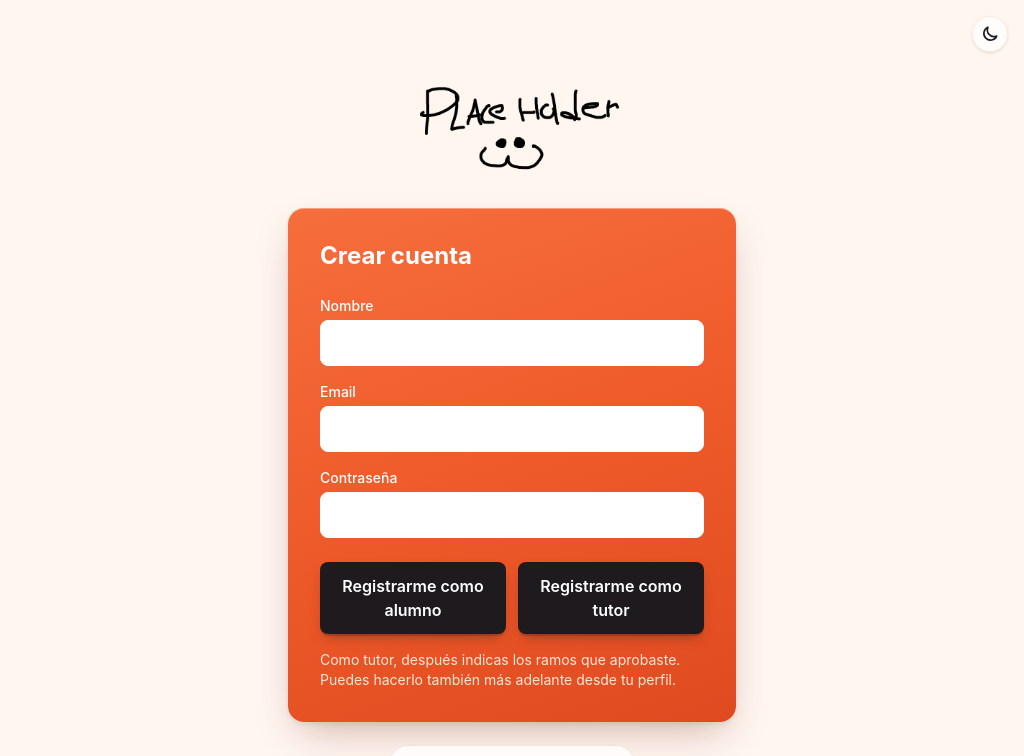
it: Registro › email repetido (CONFLICT)
Step 1. Type "Benja" into the field labelled "Nombre" → (512, 343), box [320,320,704,366]
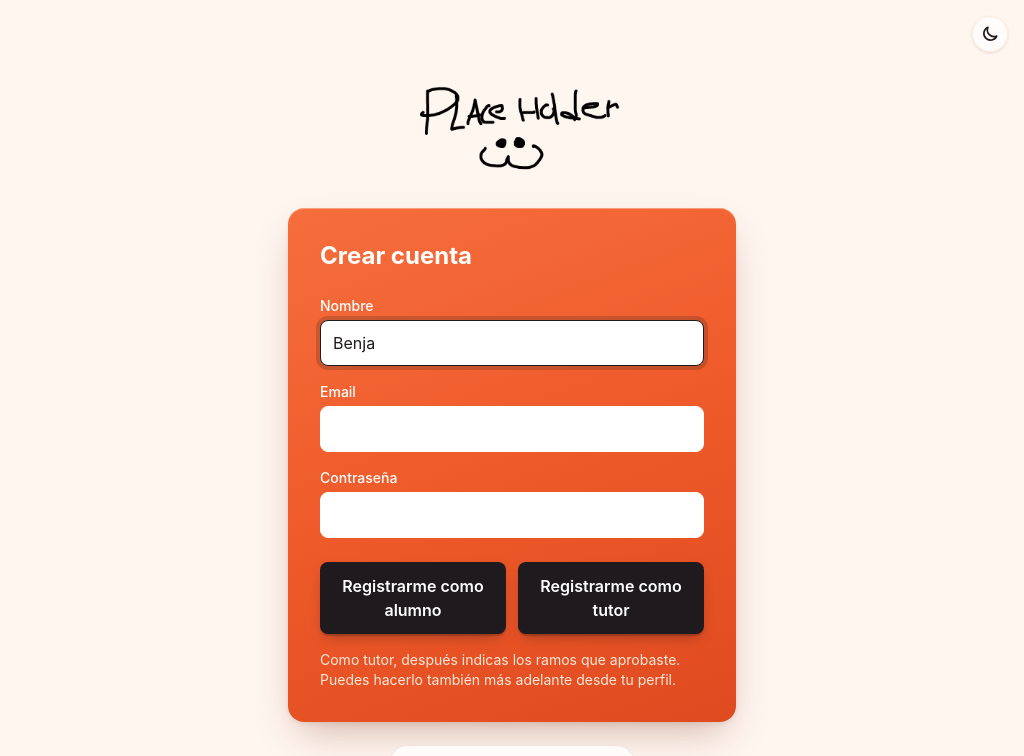
Step 2. Type "benja@test.local" into the field labelled "Email" → (512, 429), box [320,406,704,452]
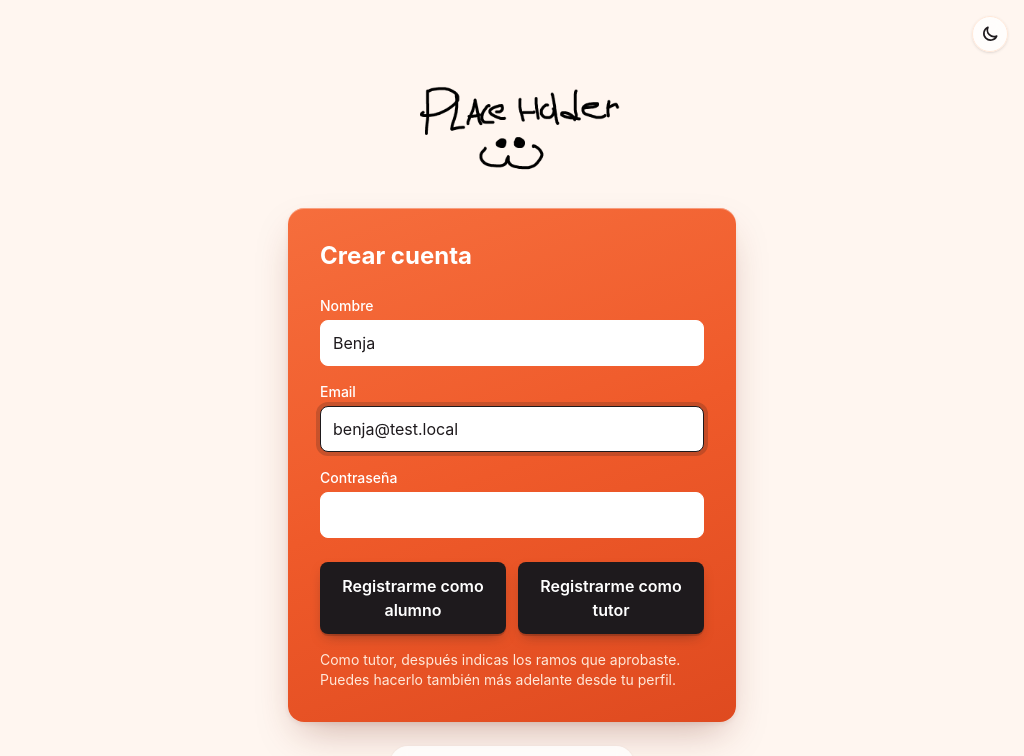
Step 3. Type "clave" into the password field labelled "Contraseña" → (512, 515), box [320,492,704,538]
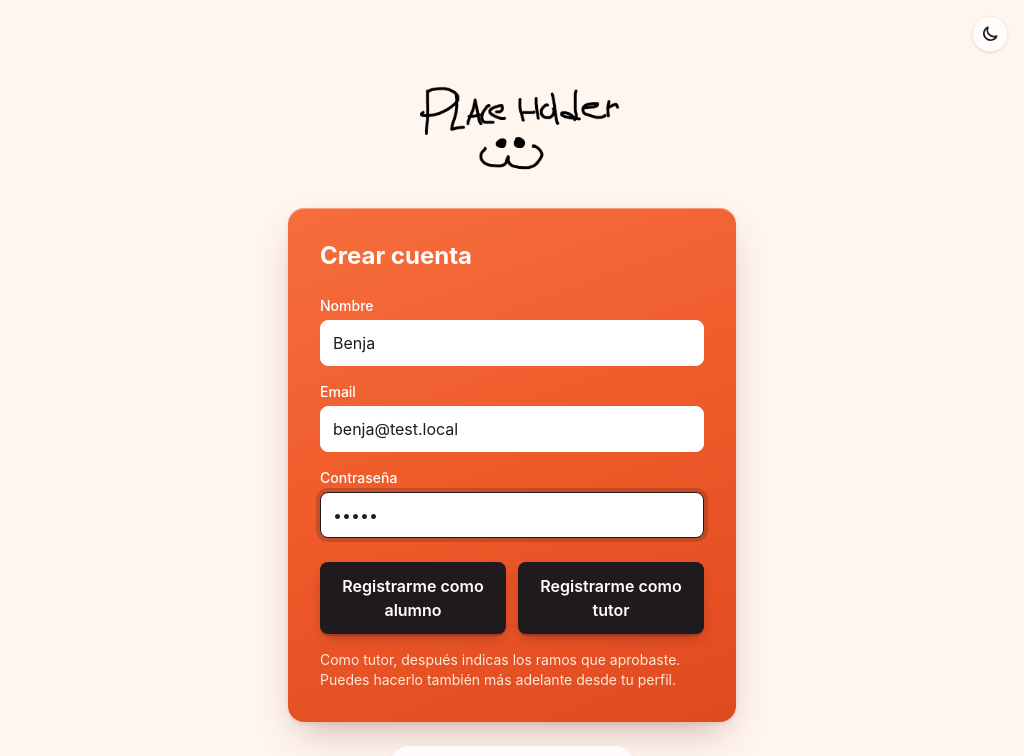
Step 4. Click the button "Registrarme como alumno" → click(413, 598), box [320,562,506,634]
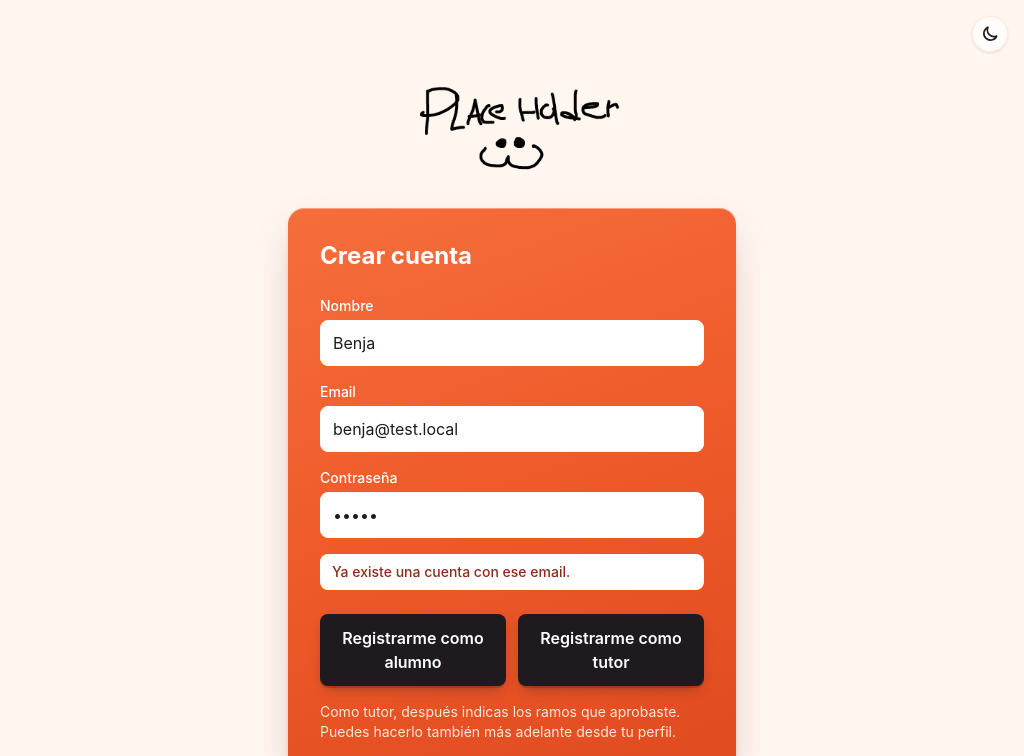
Expected: the message reads "Ya existe una cuenta con ese email.", [332,563,570,580]
